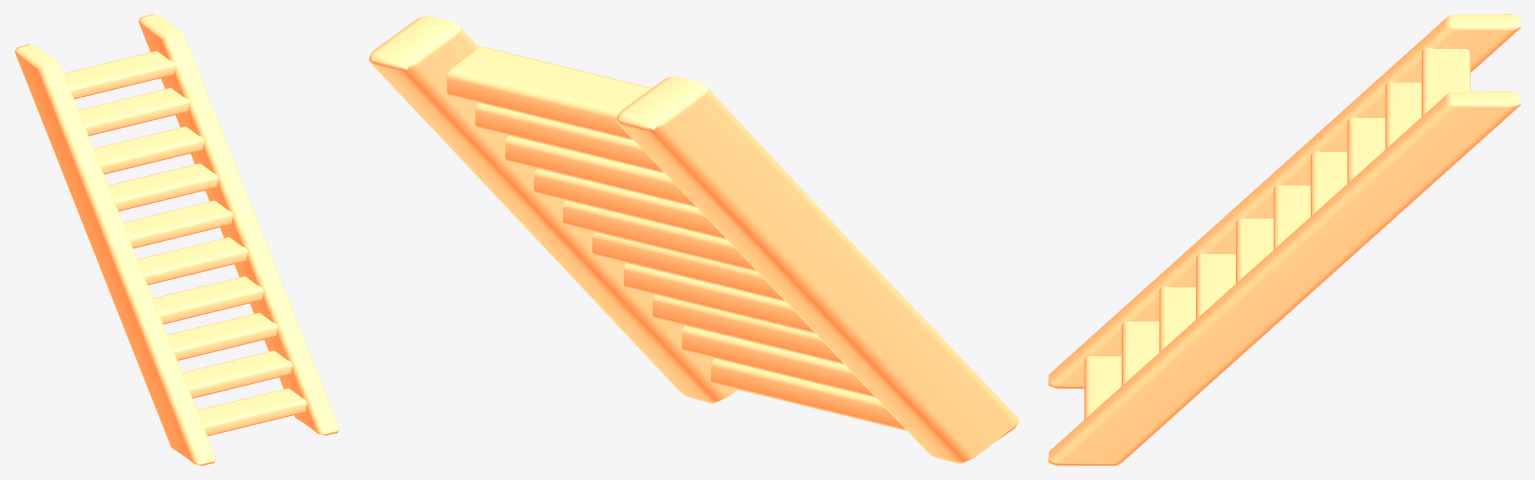
The model's file is SM_Stairs02.fbx.
The picture shows the model from 3 angles, left to right: view 1: azimuth 30°, elevation 25°; view 2: azimuth 150°, elevation 25°; view 3: azimuth 270°, elevation 25°; orthographic projection. The views are drawn at different scales.
Visible parts, largest first — view 1: SM_Stairs02_LOD0; view 2: SM_Stairs02_LOD0; view 3: SM_Stairs02_LOD0.
Part boxes in pixels (left/top/right/bottom): SM_Stairs02_LOD0: left=14, top=14, right=339, bottom=465; SM_Stairs02_LOD0: left=368, top=15, right=1019, bottom=464; SM_Stairs02_LOD0: left=1048, top=14, right=1520, bottom=465.
Size of the model in its own units: 144 by 316 by 270.
